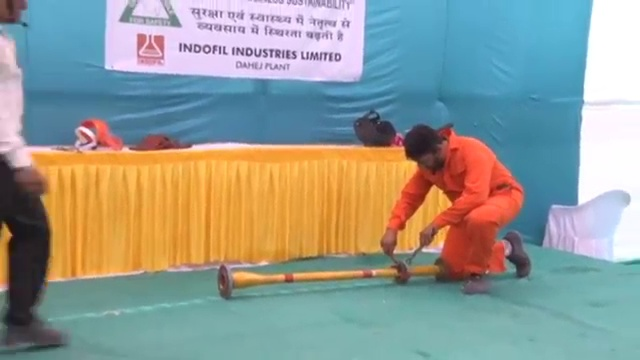helmet_off: (405, 123, 448, 173)
person: (376, 118, 533, 282), (1, 1, 69, 353)
